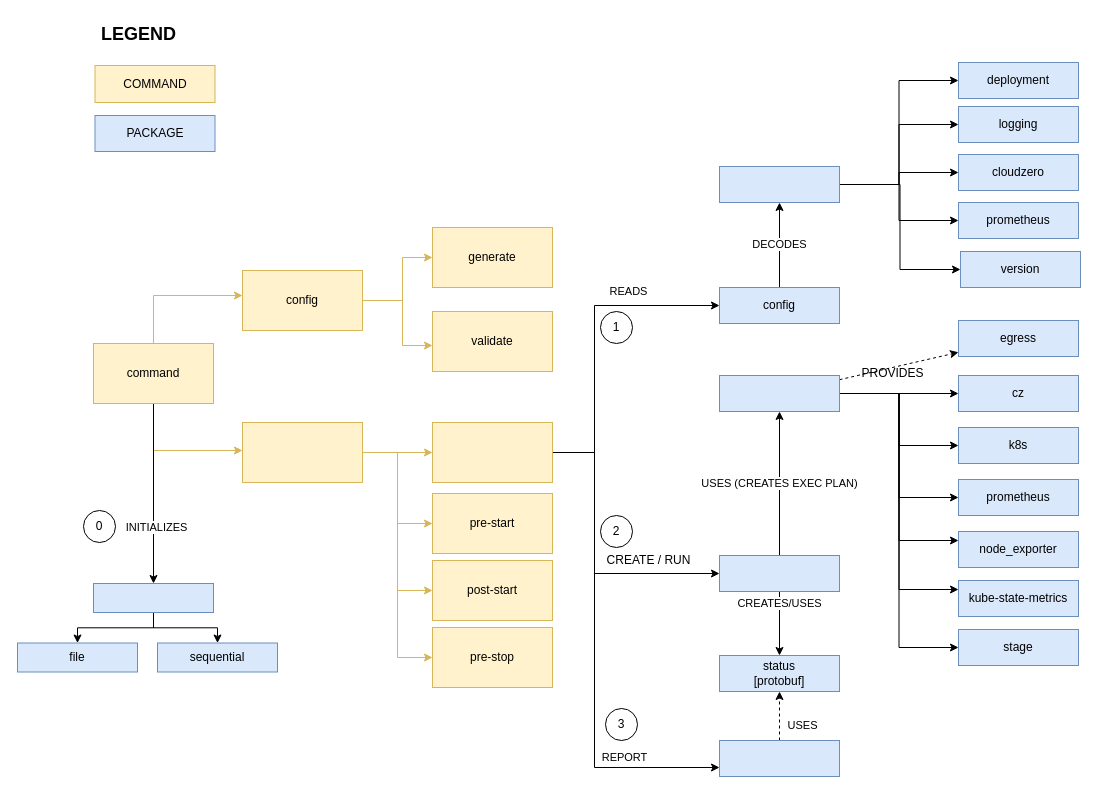
Image size: 1098x794. Some labels were removed from this diagram. Here are the shapes that lost their labels. From the top down, the centre of each, then its label:
At [779,184]: "settings".
At [779,393]: "catalog".
At [302,452]: "diagnose".
At [492,452]: "run".
At [779,573]: "runner".
At [153,597]: "logger (logrus)".
At [779,758]: "telemetry".
